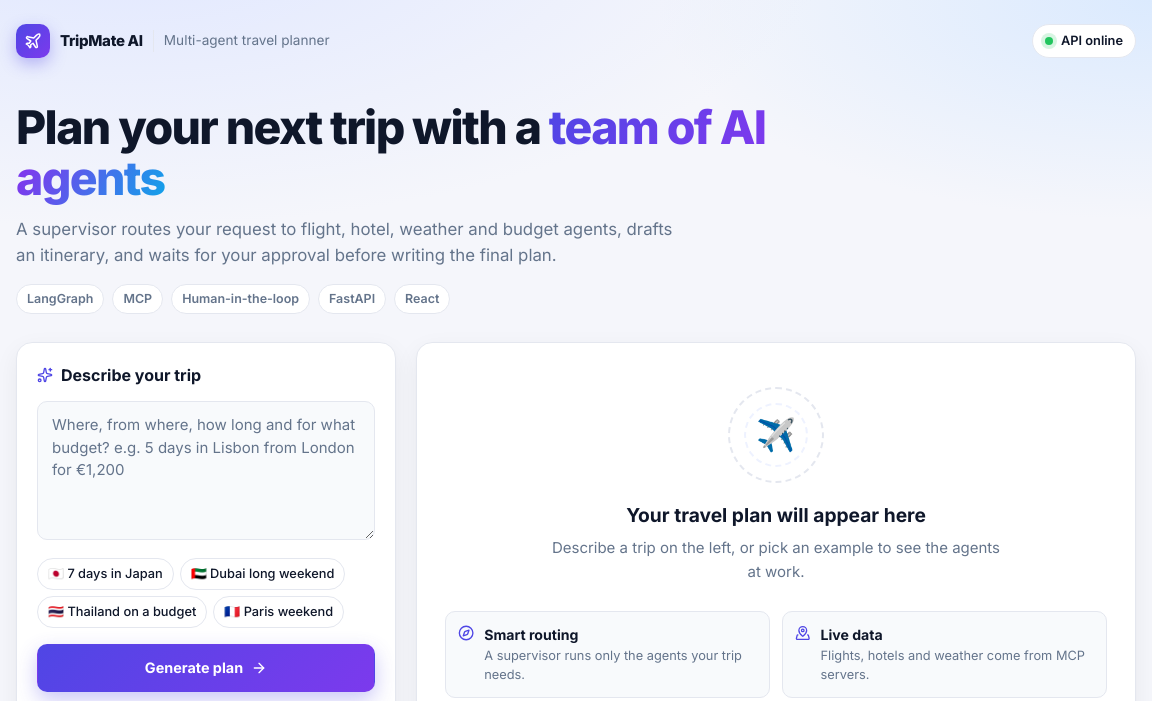
Test case: App › requires feedback before requesting a revision
Step 1. Type "Plan 3 days in Tokyo" into the text box named "Travel request" → (206, 471), box [37,401,375,540]
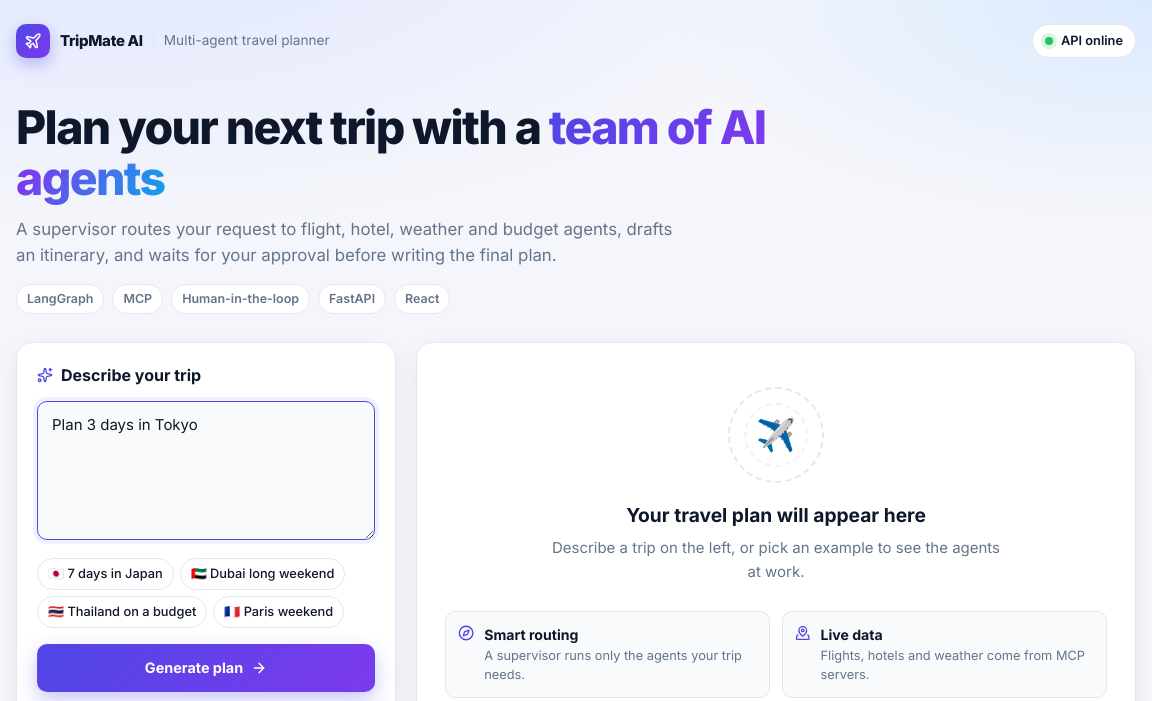
Step 2. Click the button "Generate plan" → click(206, 668), box [37,644,375,692]
(page scrolled)
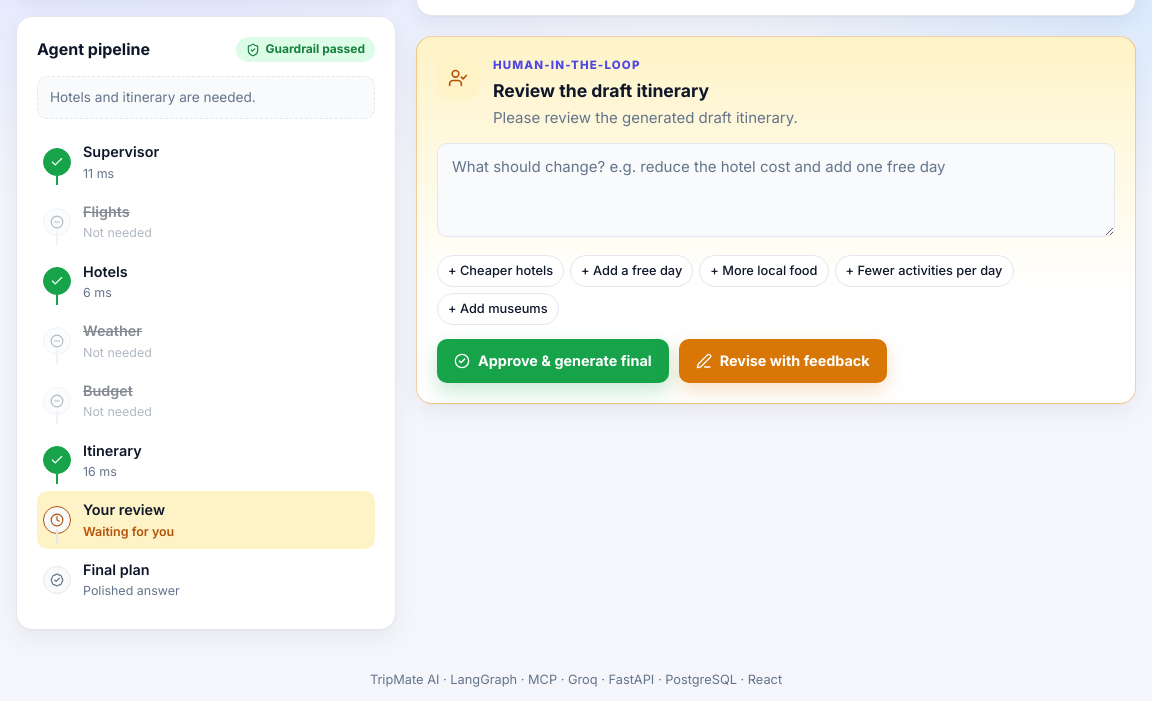
Step 3. Click the button "Revise with feedback" → click(783, 361), box [679,338,887,383]
(page scrolled)
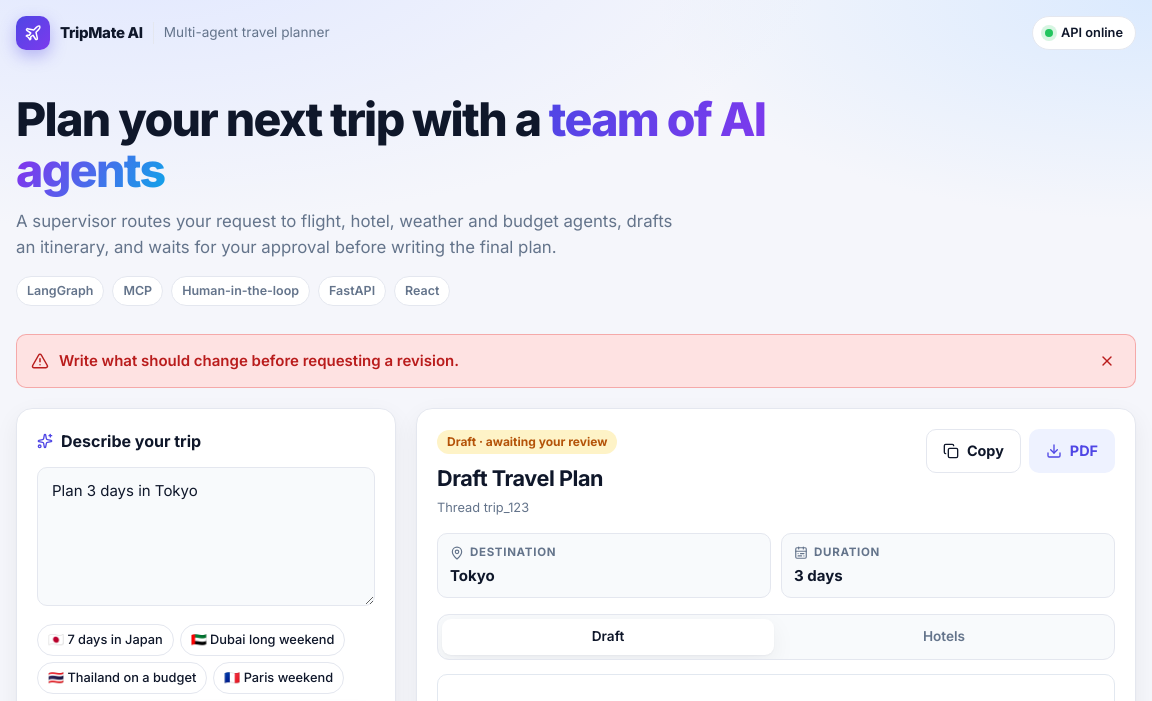
Check: the message "Write what should change before requesting a revision." is shown, box [16,334,1136,388]
